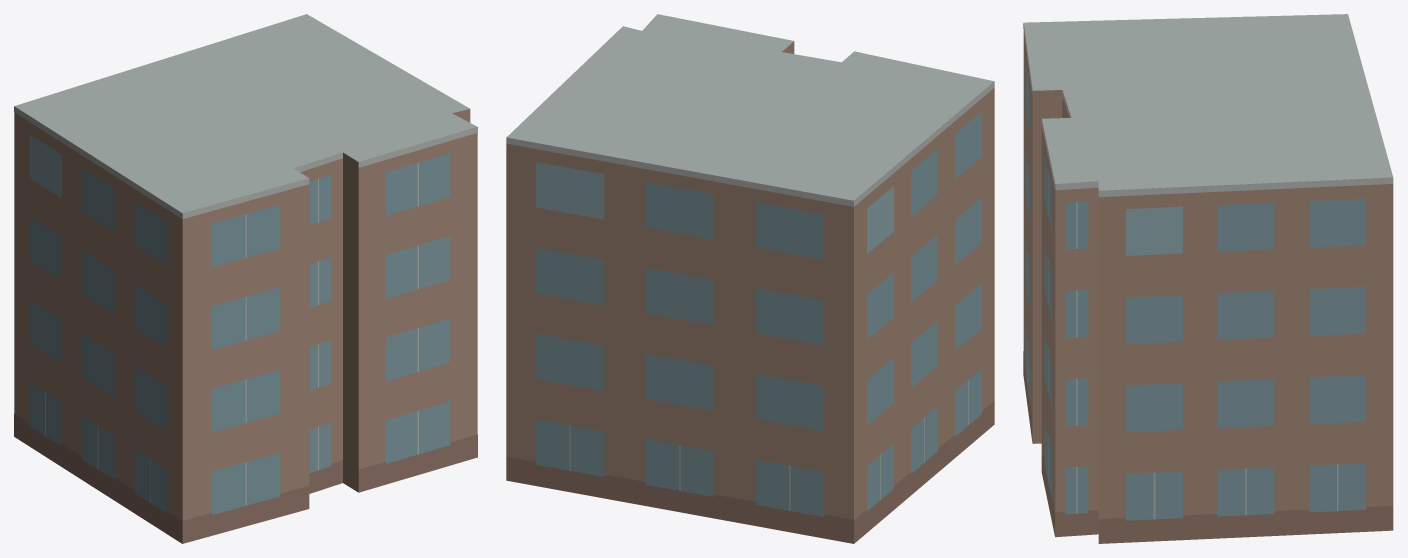
File: survey-upis-32567464.glb
3 renders of one model, left to right at view 1: azimuth 30°, elevation 25°; view 2: azimuth 150°, elevation 25°; view 3: azimuth 270°, elevation 25°, orthographic. The views are drawn at different scales.
Parts seen in each view (by area): view 1: survey-upis-32567464.tmp; view 2: survey-upis-32567464.tmp; view 3: survey-upis-32567464.tmp.
Part boxes in pixels (box(x1,y1,x2,y2)): survey-upis-32567464.tmp: box(14, 14, 477, 543); survey-upis-32567464.tmp: box(506, 14, 994, 543); survey-upis-32567464.tmp: box(1023, 14, 1393, 543).
Bounding box in the file's own units: 14.62 × 13.6 × 12.92.
